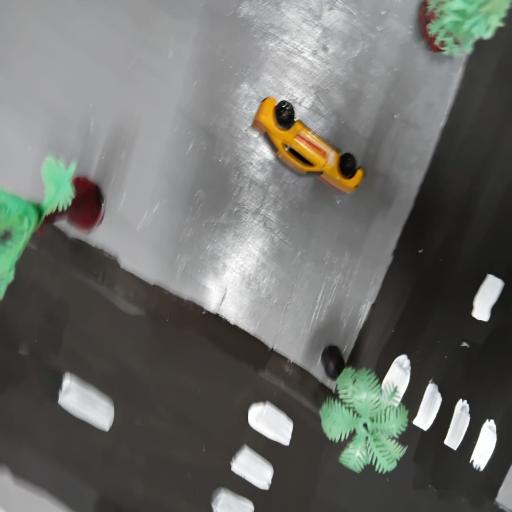car crash: (250, 86, 370, 203)
